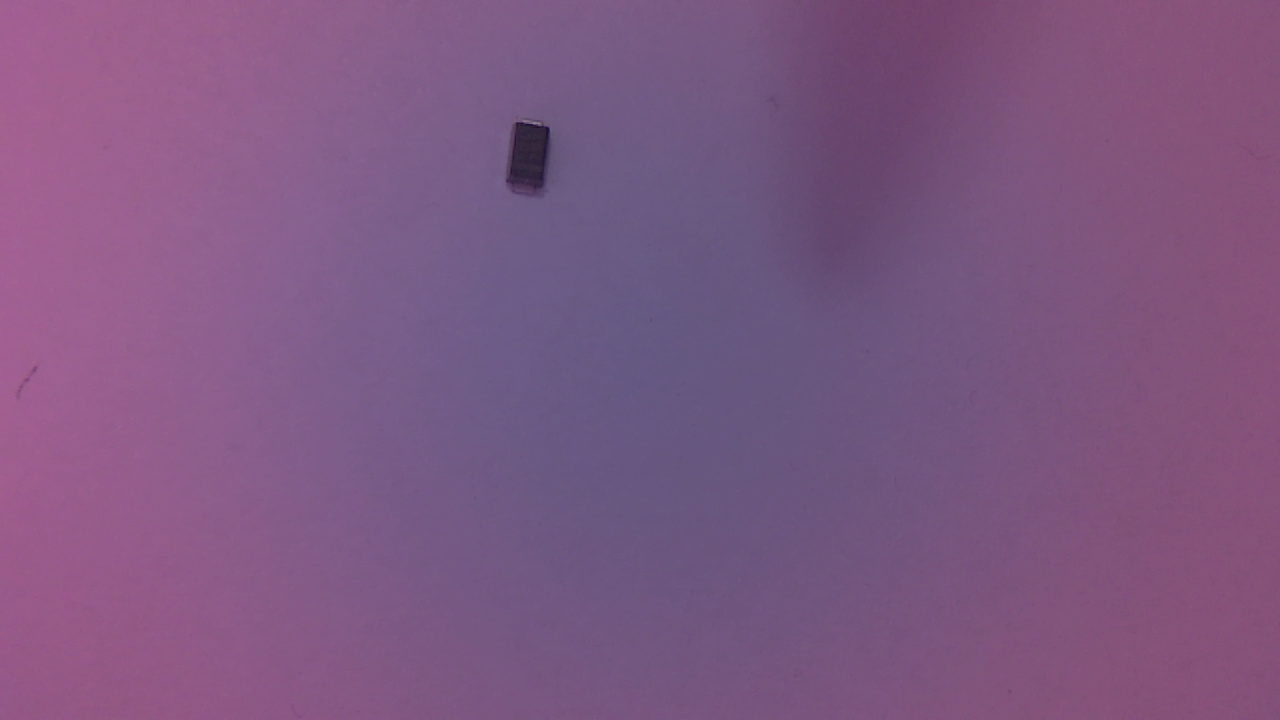Diode: (509, 119, 560, 201)
